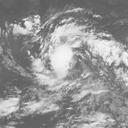cyclone: (35, 19, 89, 94)
